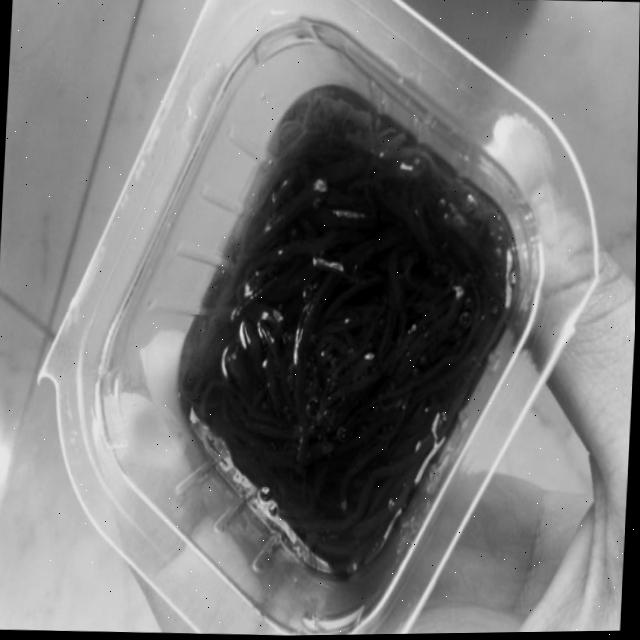蔬菜料理: (114, 26, 580, 639)
